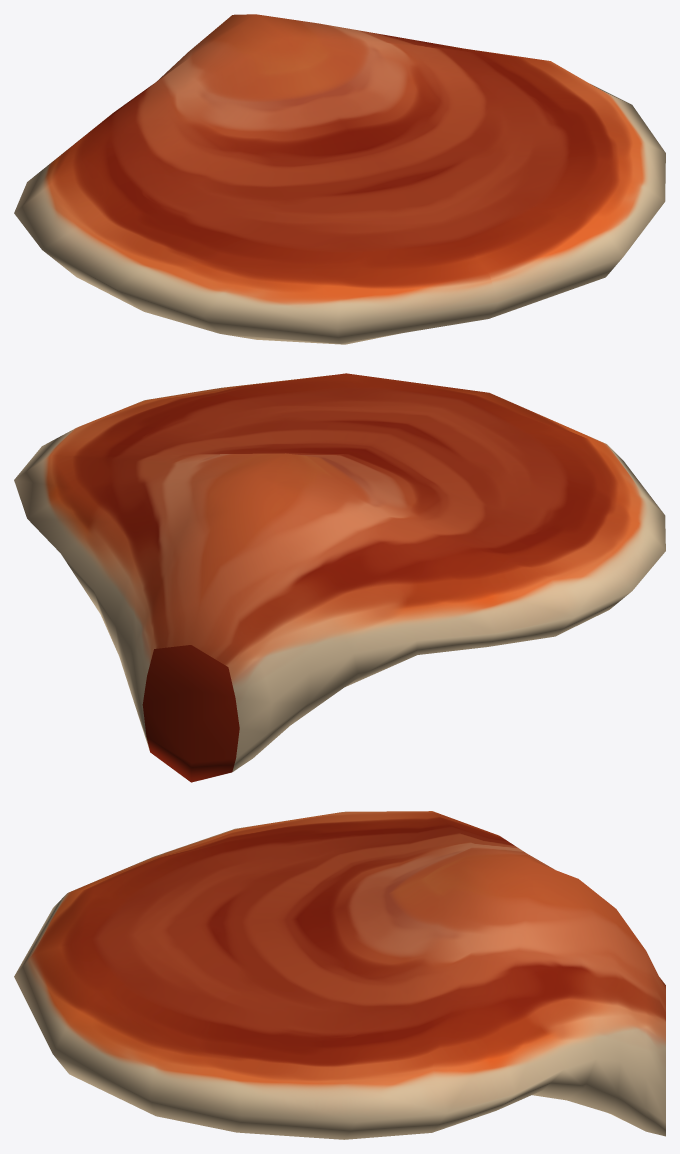
The model's file is reishi_1.fbx.
3 views of the same model, one above another, from view 1: azimuth 30°, elevation 25°; view 2: azimuth 150°, elevation 25°; view 3: azimuth 270°, elevation 25° (orthographic). The views are drawn at different scales.
Parts seen in each view (by area): view 1: reishi2; view 2: reishi2; view 3: reishi2.
Part boxes in pixels (x1,y1,x2,y2): reishi2: (14, 14, 665, 344); reishi2: (14, 373, 665, 782); reishi2: (14, 811, 665, 1139).
Bounding box in the file's own units: 8.07 × 3.41 × 7.28.
